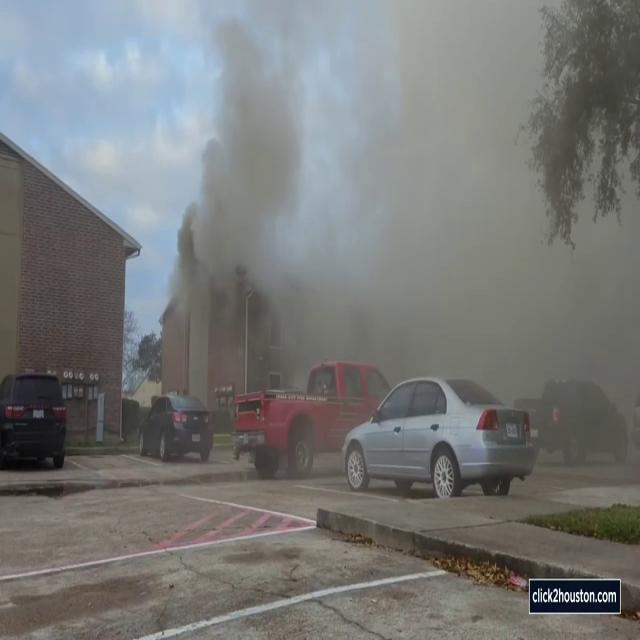Smoke: (157, 0, 638, 386), (160, 2, 314, 388)
